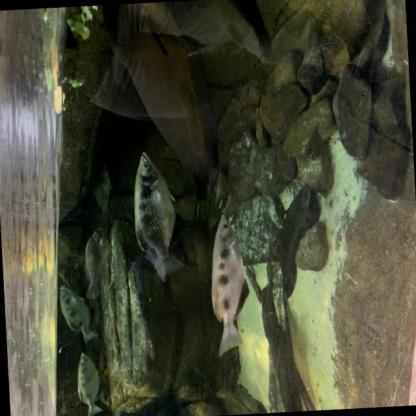fish: (129, 148, 187, 284), (206, 212, 251, 359), (58, 283, 99, 346), (82, 226, 110, 302), (74, 349, 105, 415)
